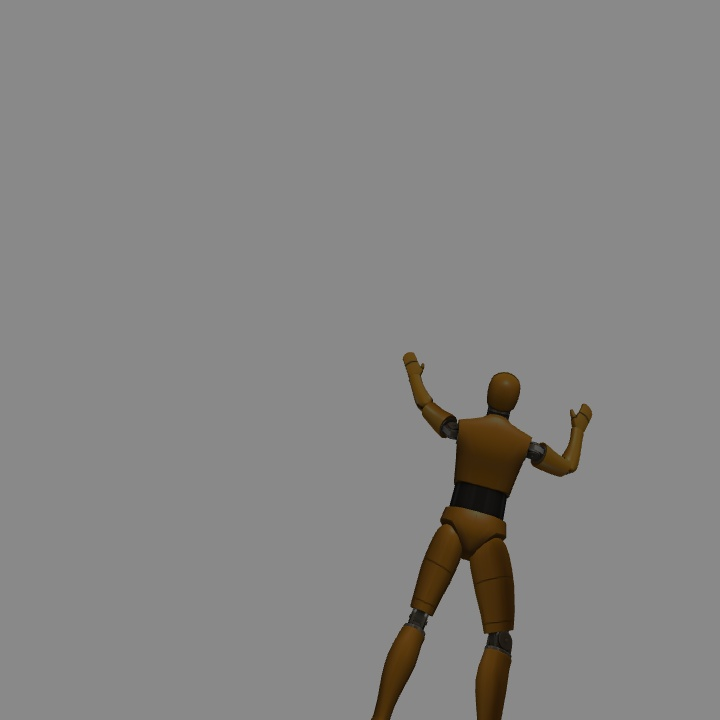victim: (401, 354, 593, 720)
